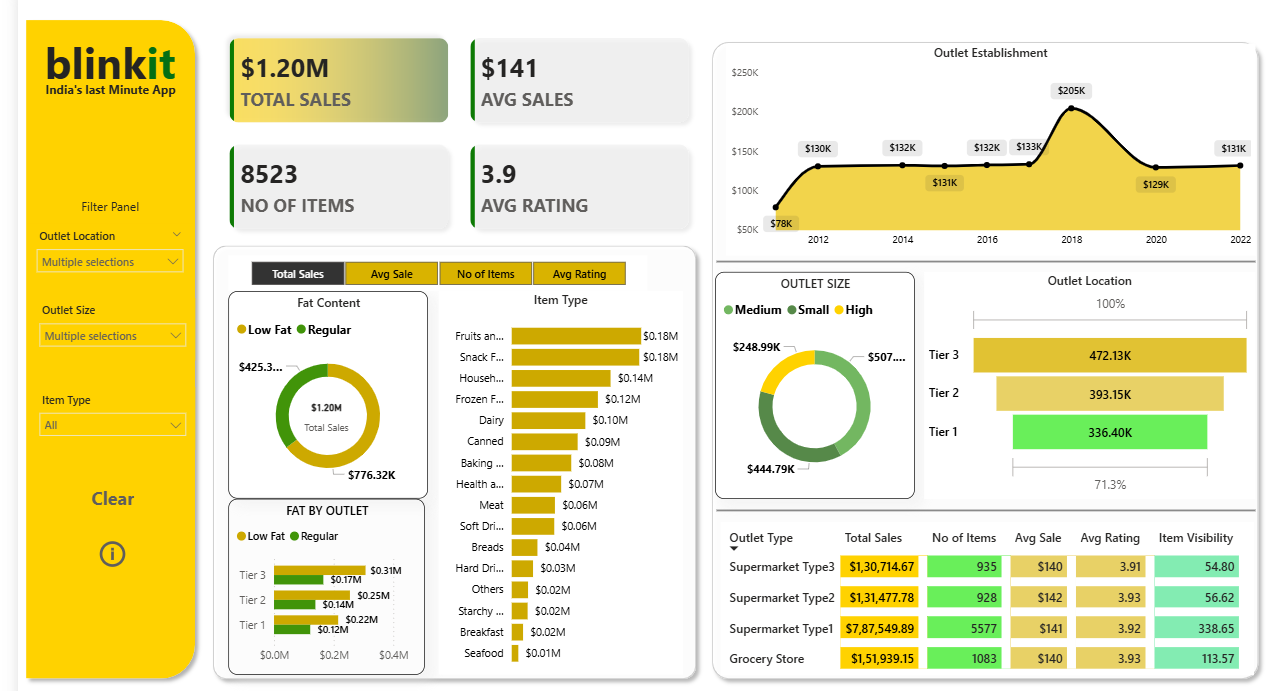

The page's visual inventory and layout, read from the dashboard file:
{"tool":"powerbi","page":{"name":"Dashboard","canvas":[1400,800],"ordinal":0},"visuals":[{"type":"shape","box":[0,24.3,205.7,749.8],"z":0},{"type":"textbox","box":[12.2,47.4,180.3,67.2],"z":1000},{"type":"textbox","box":[0,101,205.7,31.8],"z":2000},{"type":"cardVisual","fields":{"Data":["BlinkIT Grocery Data.Total Sales","BlinkIT Grocery Data.Avg Sale","BlinkIT Grocery Data.No of Items","BlinkIT Grocery Data.Avg Rating"]},"box":[205.9,23.9,570,270.3],"z":3000},{"type":"shape","box":[207.8,275.1,554.7,499.7],"z":4000},{"type":"donutChart","title":"Fat Content","fields":{"Category":["BlinkIT Grocery Data.Item Fat Content"],"Y":["BlinkIT Grocery Data.Total Sales"]},"box":[233.8,334.7,221.6,230.7],"z":5000},{"type":"slicer","fields":{"Values":["Metrics.Metrics"]},"box":[233.7,295.4,465.6,39.3],"z":6000},{"type":"card","fields":{"Values":["BlinkIT Grocery Data.Total Sales"]},"box":[310.2,450.8,65,45],"z":7000},{"type":"clusteredBarChart","title":"FAT BY OUTLET","fields":{"Category":["BlinkIT Grocery Data.Outlet Location Type"],"Series":["BlinkIT Grocery Data.Item Fat Content"],"Y":["BlinkIT Grocery Data.Total Sales"]},"box":[233.8,565.4,218.5,195.6],"z":8000},{"type":"barChart","title":"Item Type","fields":{"Category":["BlinkIT Grocery Data.Item Type"],"Y":["BlinkIT Grocery Data.Total Sales"]},"box":[467.5,334.7,271.1,426.3],"z":9000},{"type":"shape","box":[762.5,48.9,625,725.8],"z":10000},{"type":"lineChart","title":"Outlet Establishment ","fields":{"Category":["BlinkIT Grocery Data.Outlet Establishment Year"],"Y":["BlinkIT Grocery Data.Total Sales"]},"box":[787,59.6,588.3,235.3],"z":11000},{"type":"shape","box":[776.3,288.8,599,26],"z":12000},{"type":"donutChart","title":"OUTLET SIZE","fields":{"Category":["BlinkIT Grocery Data.Outlet Size"],"Y":["BlinkIT Grocery Data.Total Sales"]},"box":[774.7,313.3,221.6,252.1],"z":13000},{"type":"funnel","title":"Outlet Location","fields":{"Category":["BlinkIT Grocery Data.Outlet Location Type"],"Y":["Sum(BlinkIT Grocery Data.Sales)"]},"box":[1007,313.3,368.3,252.1],"z":14000},{"type":"shape","box":[776.3,565.4,599,26],"z":15000},{"type":"pivotTable","fields":{"Rows":["BlinkIT Grocery Data.Outlet Type"],"Values":["BlinkIT Grocery Data.Total Sales","BlinkIT Grocery Data.No of Items","BlinkIT Grocery Data.Avg Sale","BlinkIT Grocery Data.Avg Rating","Sum(BlinkIT Grocery Data.Item Visibility)"]},"box":[781.6,590.9,592.7,170.2],"z":16000},{"type":"slicer","fields":{"Values":["BlinkIT Grocery Data.Outlet Location Type"]},"box":[11.2,259.9,183.2,69.2],"z":17000},{"type":"slicer","fields":{"Values":["BlinkIT Grocery Data.Outlet Size"]},"box":[13.1,342.2,183.2,69.2],"z":18000},{"type":"slicer","fields":{"Values":["BlinkIT Grocery Data.Item Type"]},"box":[13.1,441.3,183.2,69.2],"z":19000},{"type":"actionButton","box":[22.9,539.4,165,50.4],"z":20000},{"type":"actionButton","box":[85.6,606.6,38.2,39.7],"z":20001},{"type":"textbox","box":[55,226.2,94.7,33.6],"z":20002}]}

Visuals, with their boxes on the page's 1400x800 design canvas (x1, y1, x2, y2). These are canvas units, not pixel positions in the 1277x691 screenshot, which may show the page scaled, cropped or inside an application window:
shape: left=0, top=24, right=206, bottom=774
textbox: left=12, top=47, right=192, bottom=115
textbox: left=0, top=101, right=206, bottom=133
cardVisual - BlinkIT Grocery Data.Total Sales x BlinkIT Grocery Data.Avg Sale: left=206, top=24, right=776, bottom=294
shape: left=208, top=275, right=762, bottom=775
"Fat Content" donutChart: left=234, top=335, right=455, bottom=565
slicer - Metrics.Metrics: left=234, top=295, right=699, bottom=335
card - BlinkIT Grocery Data.Total Sales: left=310, top=451, right=375, bottom=496
"FAT BY OUTLET" clusteredBarChart: left=234, top=565, right=452, bottom=761
"Item Type" barChart: left=468, top=335, right=739, bottom=761
shape: left=762, top=49, right=1388, bottom=775
"Outlet Establishment " lineChart: left=787, top=60, right=1375, bottom=295
shape: left=776, top=289, right=1375, bottom=315
"OUTLET SIZE" donutChart: left=775, top=313, right=996, bottom=565
"Outlet Location" funnel: left=1007, top=313, right=1375, bottom=565
shape: left=776, top=565, right=1375, bottom=591
pivotTable - BlinkIT Grocery Data.Outlet Type x BlinkIT Grocery Data.Total Sales: left=782, top=591, right=1374, bottom=761
slicer - BlinkIT Grocery Data.Outlet Location Type: left=11, top=260, right=194, bottom=329
slicer - BlinkIT Grocery Data.Outlet Size: left=13, top=342, right=196, bottom=411
slicer - BlinkIT Grocery Data.Item Type: left=13, top=441, right=196, bottom=510
actionButton: left=23, top=539, right=188, bottom=590
actionButton: left=86, top=607, right=124, bottom=646
textbox: left=55, top=226, right=150, bottom=260
